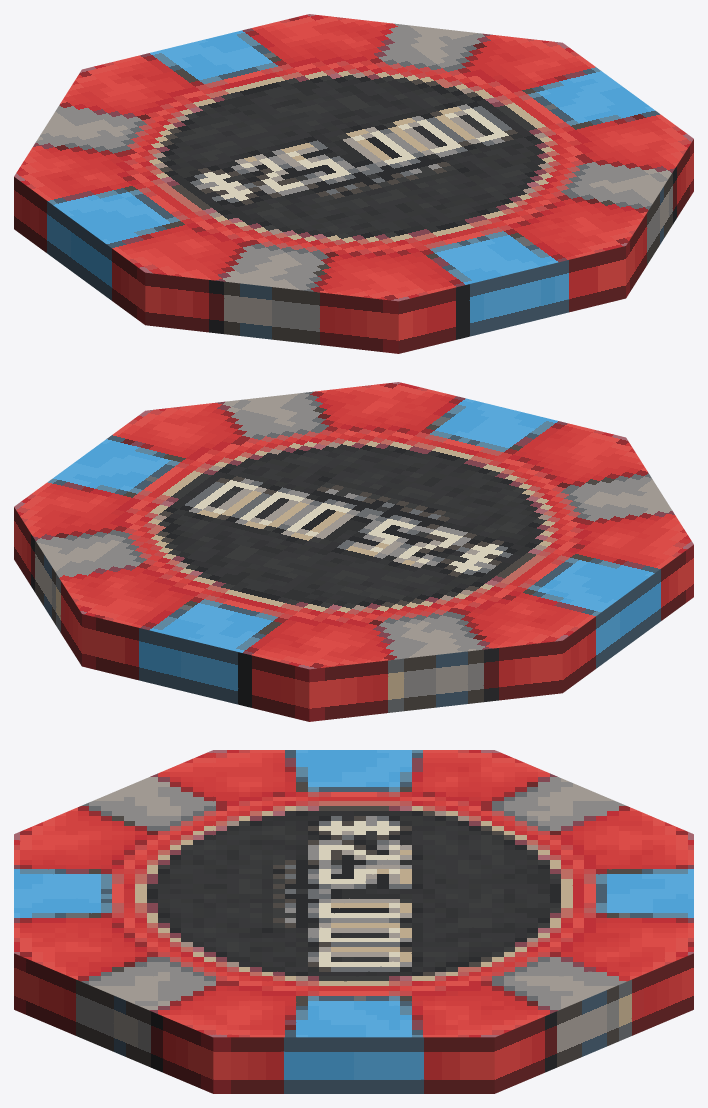
The model's file is chip_25000.glb.
3 views of the same model, one above another, from view 1: azimuth 30°, elevation 25°; view 2: azimuth 150°, elevation 25°; view 3: azimuth 270°, elevation 25° (orthographic). The views are drawn at different scales.
Visible parts, largest first — view 1: chip_25000; view 2: chip_25000; view 3: chip_25000.
Boxes of the visible parts, x1,y1,x2,y2 form: chip_25000: (14, 14, 693, 353); chip_25000: (14, 382, 693, 721); chip_25000: (14, 750, 693, 1093).
Bounding box in the file's own units: 0.036 × 0.0033 × 0.036.
1 material, 1 textured.
